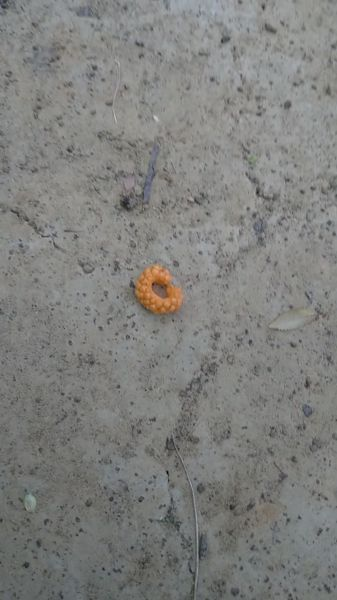eggs: (135, 259, 180, 311)
